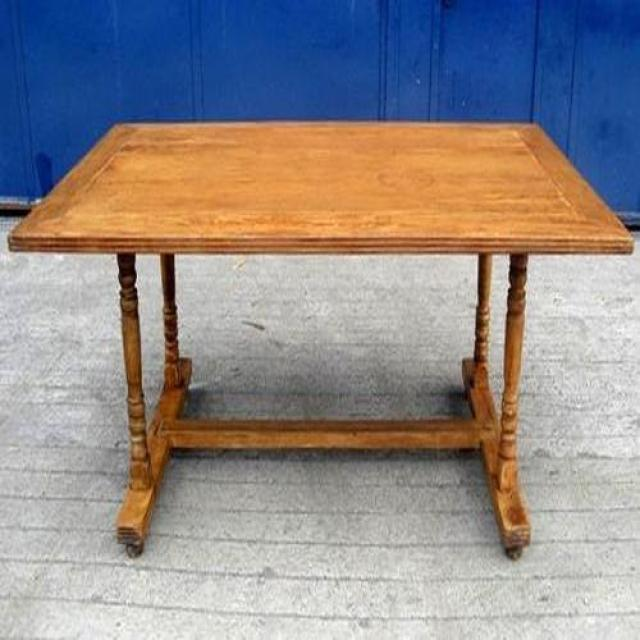table: (6, 122, 635, 559)
